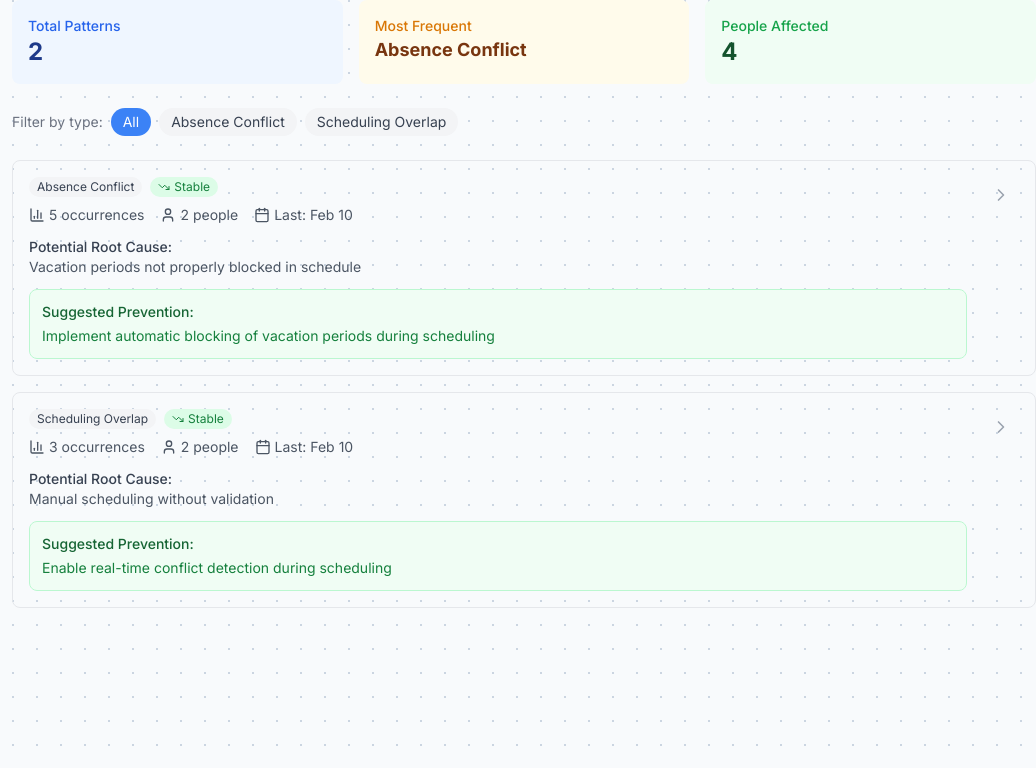
it: ConflictPatternsView › Pattern Expansion › should expand pattern when chevron clicked
expect the text "Vacation periods not properly blocked in schedule" is shown: met, box [29,258,361,275]
Click the 4th button. click: (1001, 195)
box: [983,177,1019,213]
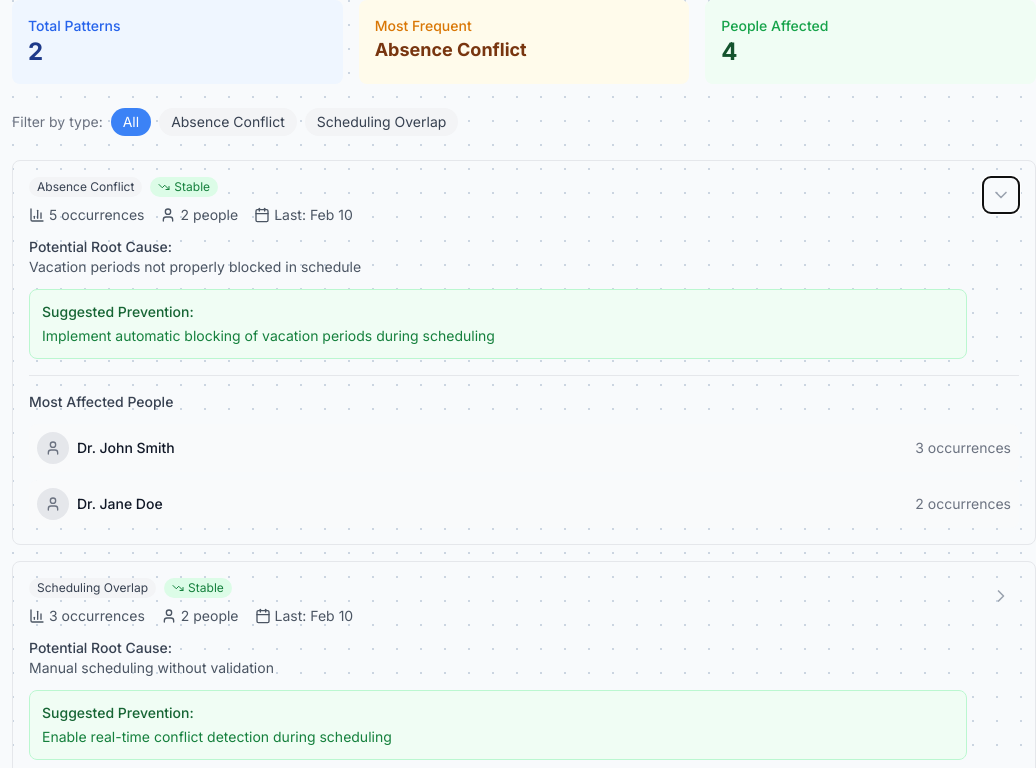
expect the heading "Most Affected People" is shown: met, box [29,393,173,410]
